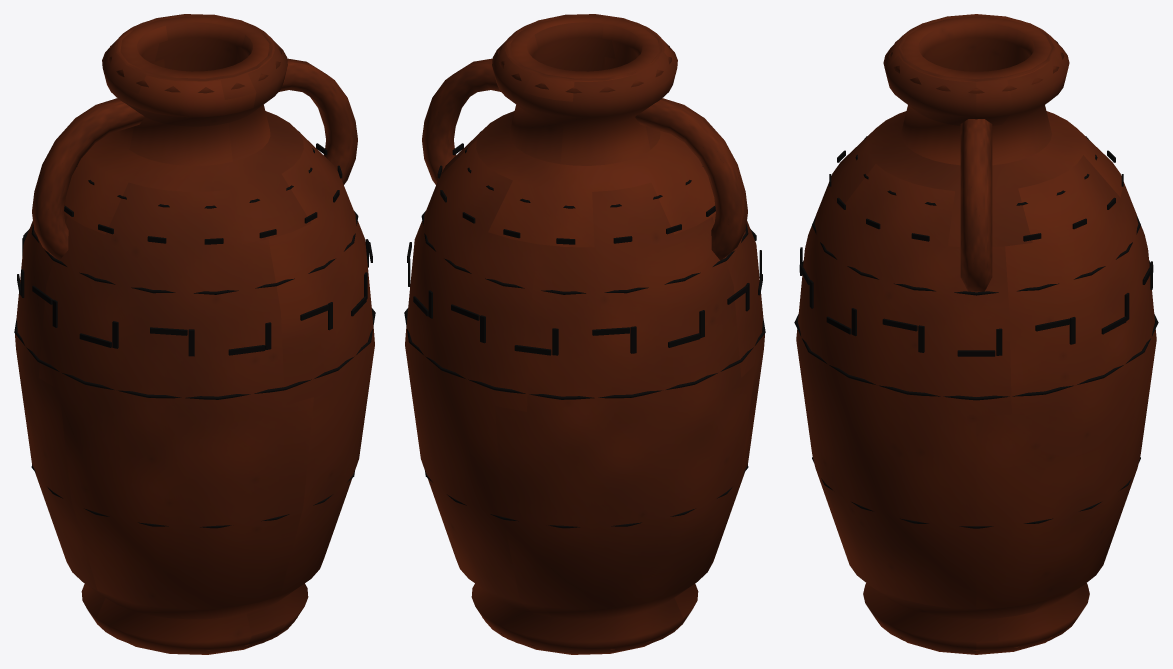
The model's file is antique_amphora_LOD1.glb.
3 renders of one model, left to right at view 1: azimuth 30°, elevation 25°; view 2: azimuth 150°, elevation 25°; view 3: azimuth 270°, elevation 25°, orthographic.
Parts seen in each view (by area): view 1: Closed hollow terracotta amphora, Thick side handle -1, Thick side handle 1, Rolled mouth rim, Dark painted register rail.002, Dark painted register rail.003; view 2: Closed hollow terracotta amphora, Thick side handle -1, Thick side handle 1, Rolled mouth rim, Dark painted register rail.002, Dark painted register rail.003; view 3: Closed hollow terracotta amphora, Thick side handle 1, Rolled mouth rim, Dark painted register rail.002, Dark painted register rail.003.
Boxes of the visible parts, x1,y1,x2,y2 form: Closed hollow terracotta amphora: (15, 16, 374, 653); Thick side handle -1: (32, 98, 144, 260); Thick side handle 1: (279, 58, 357, 184); Rolled mouth rim: (107, 14, 282, 93); Dark painted register rail.002: (14, 308, 375, 399); Dark painted register rail.003: (31, 211, 358, 294); Closed hollow terracotta amphora: (405, 16, 764, 653); Thick side handle -1: (635, 98, 747, 260); Thick side handle 1: (422, 58, 500, 184); Rolled mouth rim: (497, 14, 672, 93); Dark painted register rail.002: (404, 308, 765, 399); Dark painted register rail.003: (421, 211, 748, 294); Closed hollow terracotta amphora: (796, 16, 1156, 653); Thick side handle 1: (960, 119, 992, 291); Rolled mouth rim: (888, 14, 1064, 93); Dark painted register rail.002: (794, 314, 1158, 400); Dark painted register rail.003: (812, 216, 1140, 295).
Bounding box in the file's own units: 0.2525 × 0.4315 × 0.2505.
Materials: 2 (2 with a texture image).
